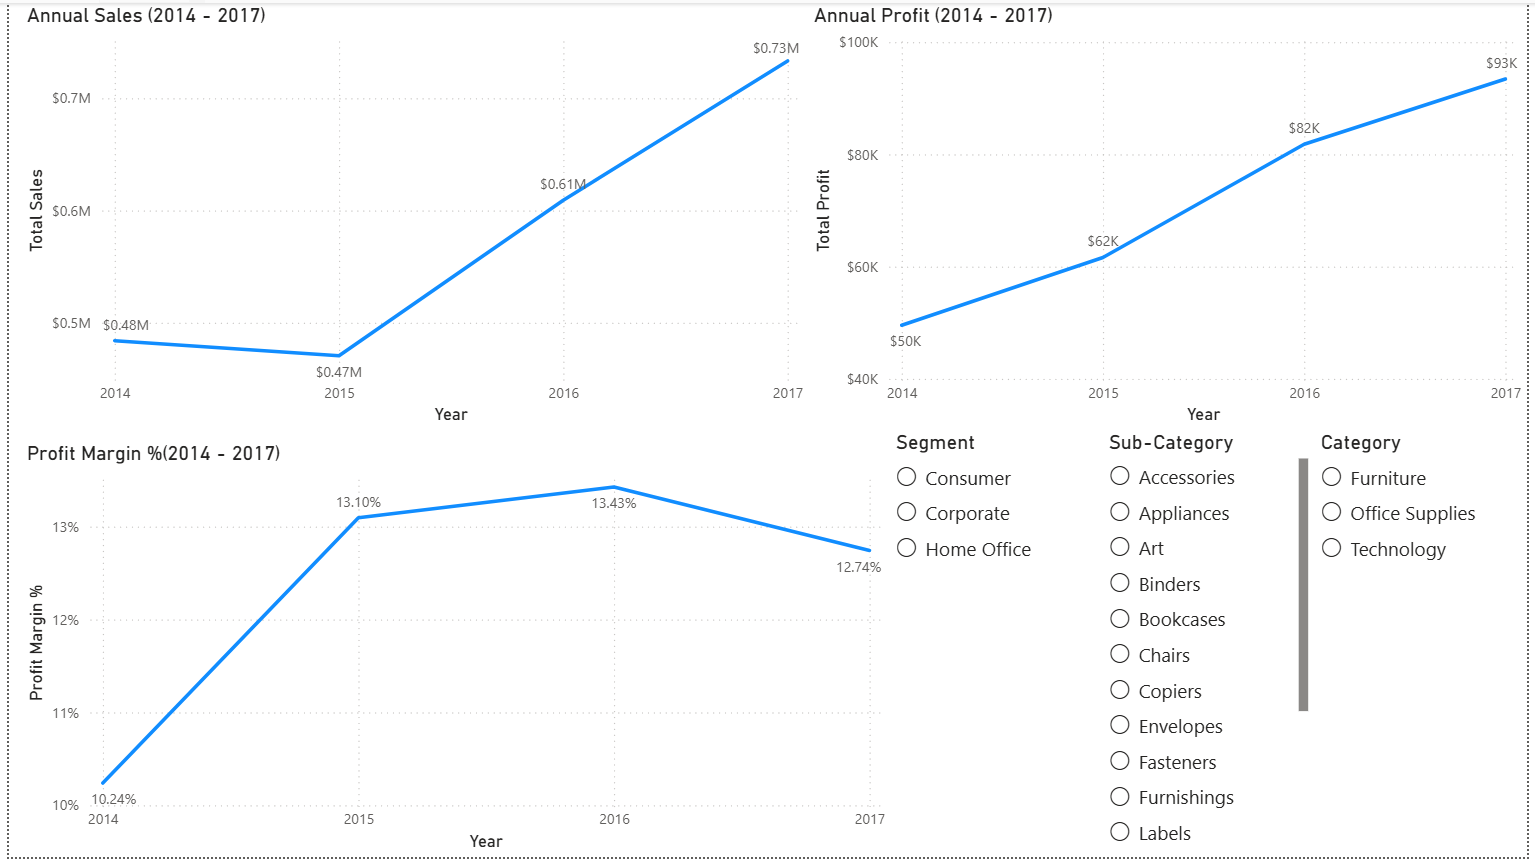

What the dashboard file says about the page in this screenshot:
{"tool":"powerbi","page":{"name":"Annual Performance","canvas":[1280,720],"ordinal":2},"visuals":[{"type":"lineChart","title":"Annual Sales (2014 - 2017)","fields":{"Y":["Sum(RawData.Sales)"],"Category":["RawData.Year"]},"box":[9.7,0,664.3,359.9],"z":0},{"type":"lineChart","title":"Annual Profit (2014 - 2017)","fields":{"Y":["Sum(RawData.Profit)"],"Category":["RawData.Year"]},"box":[674,0,606,359.9],"z":1000},{"type":"lineChart","title":"Profit Margin %(2014 - 2017)","fields":{"Y":["RawData.Profit Margin %"],"Category":["RawData.Year"]},"box":[9.7,369.6,733.4,350.2],"z":2000},{"type":"listSlicer","fields":{"Values":["RawData.Category"]},"box":[1101,359.9,179,359.9],"z":3000},{"type":"listSlicer","fields":{"Values":["RawData.Sub-Category"]},"box":[922.1,359.9,179,359.9],"z":4000},{"type":"listSlicer","fields":{"Values":["RawData.Segment"]},"box":[743.1,359.9,179,359.9],"z":5000}]}

Visuals, with their boxes in screenshot pixels (x1, y1, x2, y2), scaled from the page's 1280x720 canvas onto the 1535x863 screenshot:
"Annual Sales (2014 - 2017)" lineChart: bbox=(12, 0, 808, 431)
"Annual Profit (2014 - 2017)" lineChart: bbox=(808, 0, 1534, 431)
"Profit Margin %(2014 - 2017)" lineChart: bbox=(12, 443, 891, 862)
listSlicer - RawData.Category: bbox=(1320, 431, 1534, 862)
listSlicer - RawData.Sub-Category: bbox=(1106, 431, 1320, 862)
listSlicer - RawData.Segment: bbox=(891, 431, 1106, 862)
